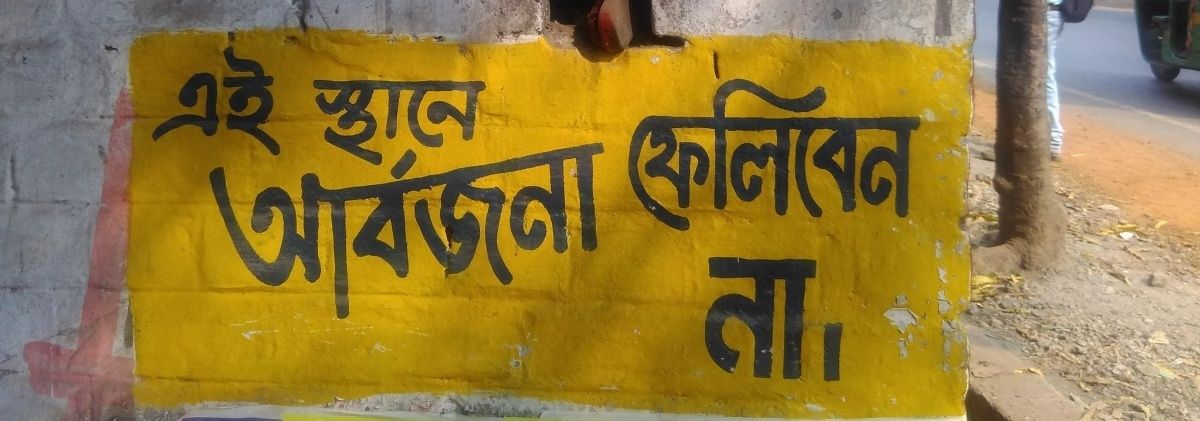text: (209, 134, 224, 331), (225, 134, 240, 331), (241, 134, 256, 331), (257, 134, 272, 331), (273, 134, 288, 331), (289, 134, 304, 331), (305, 134, 320, 331), (321, 134, 336, 331), (337, 134, 352, 331), (353, 134, 368, 331), (369, 134, 384, 331), (385, 134, 400, 331), (401, 134, 416, 331), (417, 134, 432, 331), (433, 134, 448, 331), (449, 134, 464, 331), (465, 134, 480, 331), (481, 134, 496, 331), (497, 134, 512, 331), (513, 134, 528, 331), (529, 134, 544, 331), (545, 134, 560, 331), (561, 134, 576, 331), (577, 134, 592, 331), (593, 134, 608, 331), (641, 74, 656, 234), (657, 74, 672, 234), (673, 74, 688, 234), (689, 74, 704, 234), (705, 74, 720, 234), (721, 74, 736, 234), (737, 74, 752, 234), (753, 74, 768, 234), (769, 74, 784, 234), (785, 74, 800, 234), (801, 74, 816, 234), (817, 74, 832, 234), (833, 74, 848, 234), (849, 74, 864, 234), (865, 74, 880, 234), (881, 74, 896, 234), (897, 74, 912, 234), (705, 253, 720, 385), (721, 253, 736, 385), (737, 253, 752, 385), (753, 253, 768, 385), (769, 253, 784, 385), (785, 253, 800, 385), (801, 253, 816, 385), (817, 253, 832, 385), (913, 74, 924, 234), (177, 44, 192, 156), (193, 44, 208, 156), (209, 44, 224, 156), (225, 44, 240, 156), (241, 44, 256, 156), (257, 44, 272, 156), (833, 253, 845, 385), (321, 72, 336, 176), (337, 72, 352, 176), (353, 72, 368, 176), (369, 72, 384, 176), (385, 72, 400, 176), (401, 72, 416, 176), (417, 72, 432, 176), (433, 72, 448, 176), (449, 72, 464, 176), (465, 72, 480, 176), (631, 74, 640, 234), (481, 72, 494, 176), (165, 44, 176, 156), (273, 44, 284, 156), (311, 72, 320, 176), (204, 134, 208, 331)
